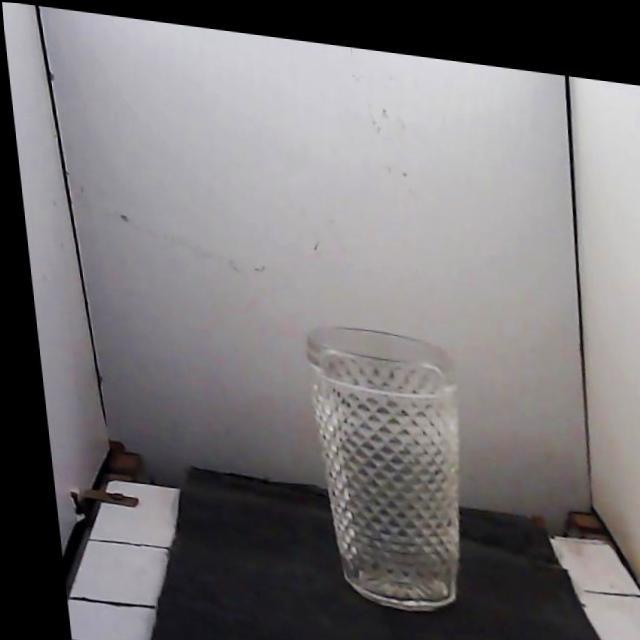vidro: (307, 327, 459, 610)
